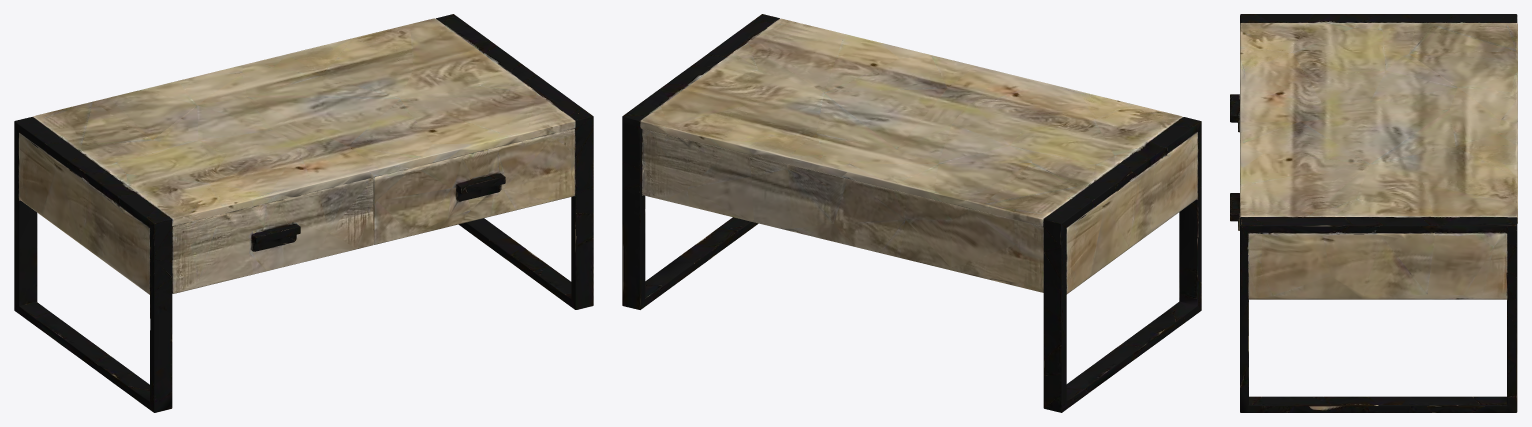
Rendered from couchtisch.glb.
3 views of the same model, side by side, from view 1: azimuth 30°, elevation 25°; view 2: azimuth 150°, elevation 25°; view 3: azimuth 270°, elevation 25° (orthographic).
Visible parts, largest first — view 1: Mesh_0; view 2: Mesh_0; view 3: Mesh_0.
Boxes of the visible parts, x1,y1,x2,y2 form: Mesh_0: (14,14,593,412); Mesh_0: (622,14,1201,412); Mesh_0: (1230,14,1517,412).
Size of the model in its own units: 1.9 by 0.7857 by 1.09.
1 material, 1 textured.
